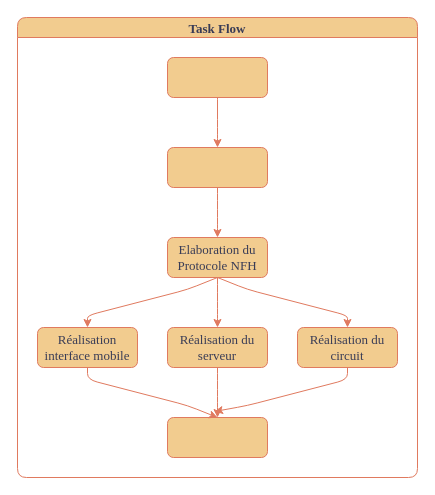
The diagram is 435 pixels wide and 495 high, and some of its shapes have lost their labels. Here are the shapes that lost their labels. From the top down, the centre of each, then its label:
[217,77]: Start
[217,167]: Analyse des incendies
[217,437]: End
